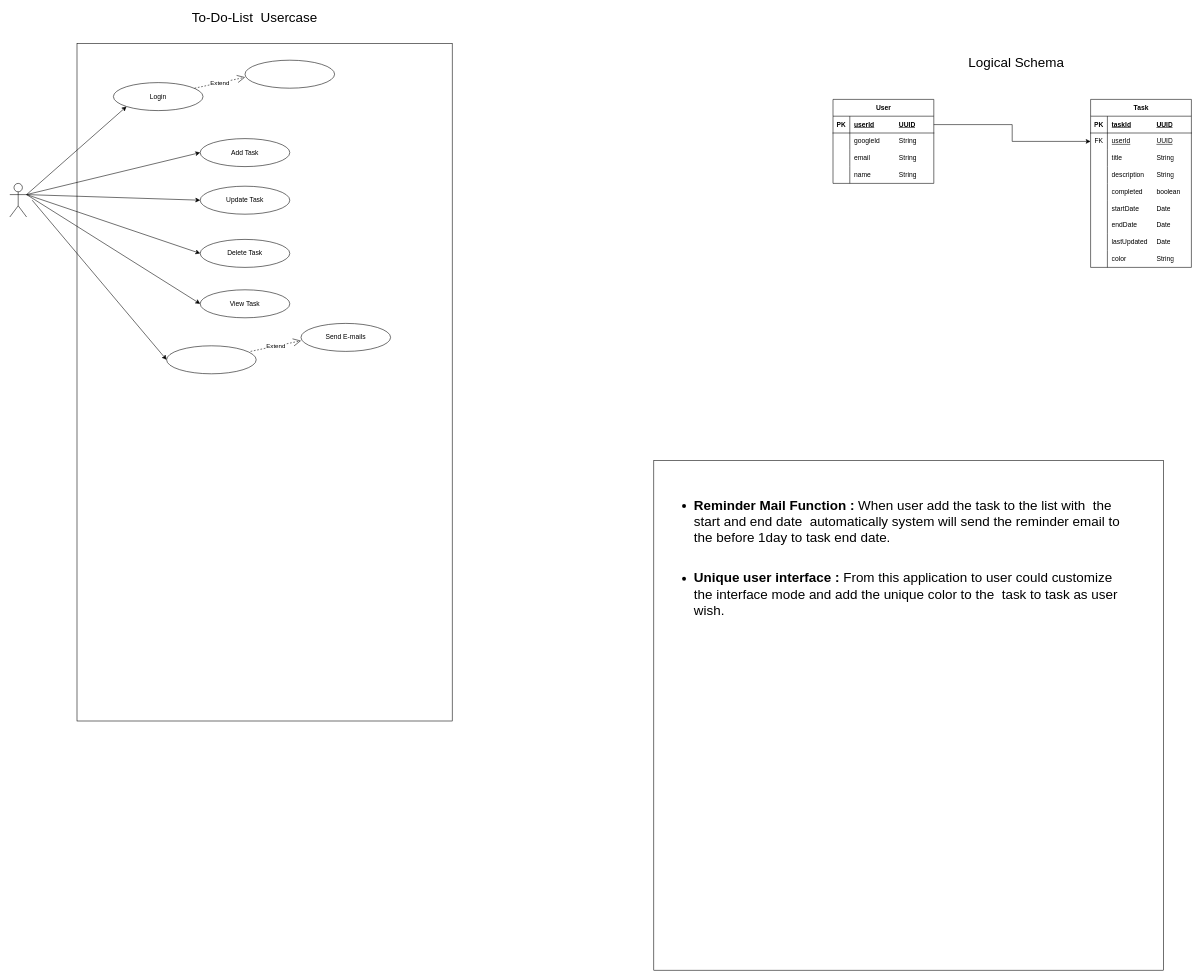
The diagram is 1201 pixels wide and 980 high, and some of its shapes have lost their labels. Each missing label, with the centre of its shape:
"Actor" belongs at (x=18, y=200).
"Google Auth" belongs at (x=289, y=74).
"Manage Notifiactions" belongs at (x=211, y=359).
